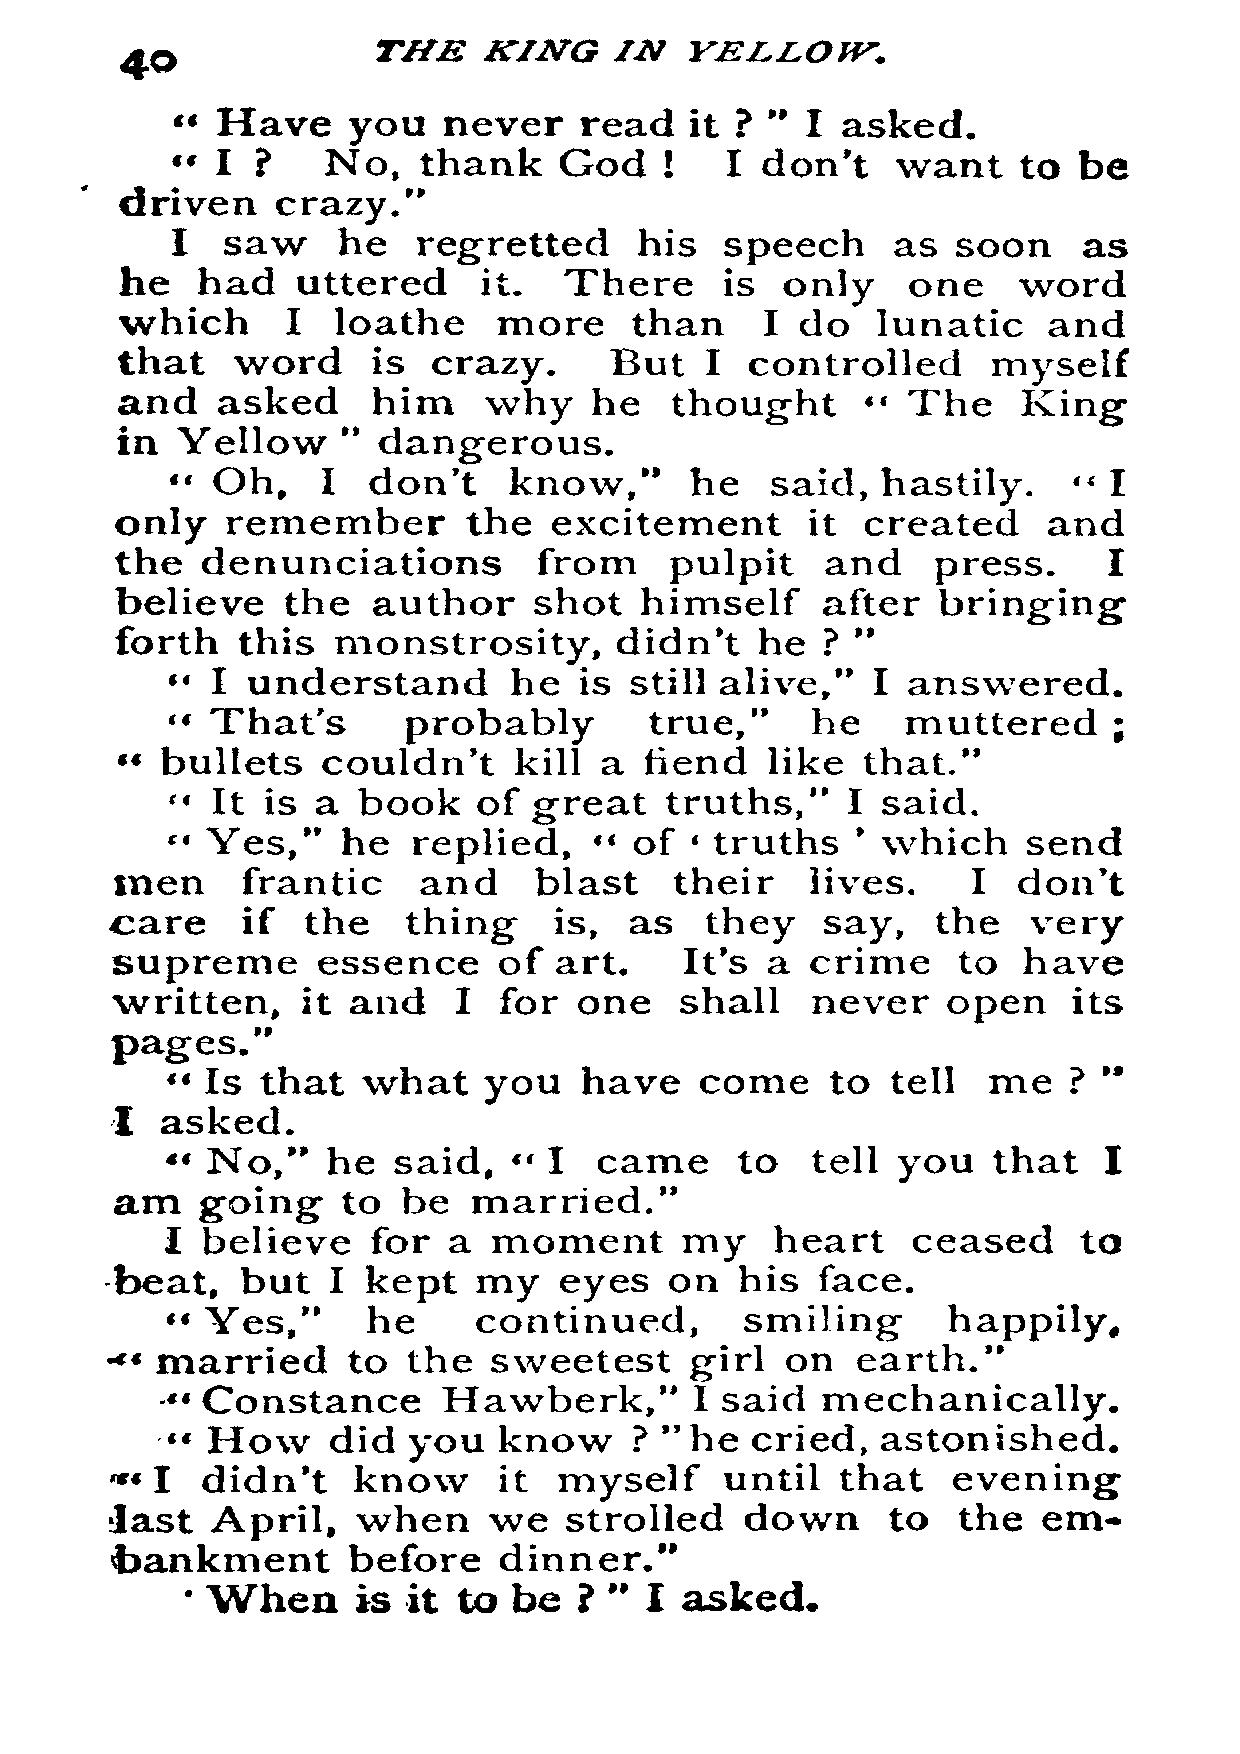content: (111, 101, 1138, 1620)
content_chapter: (362, 34, 891, 66)
content_pagenumber: (114, 38, 181, 86)
